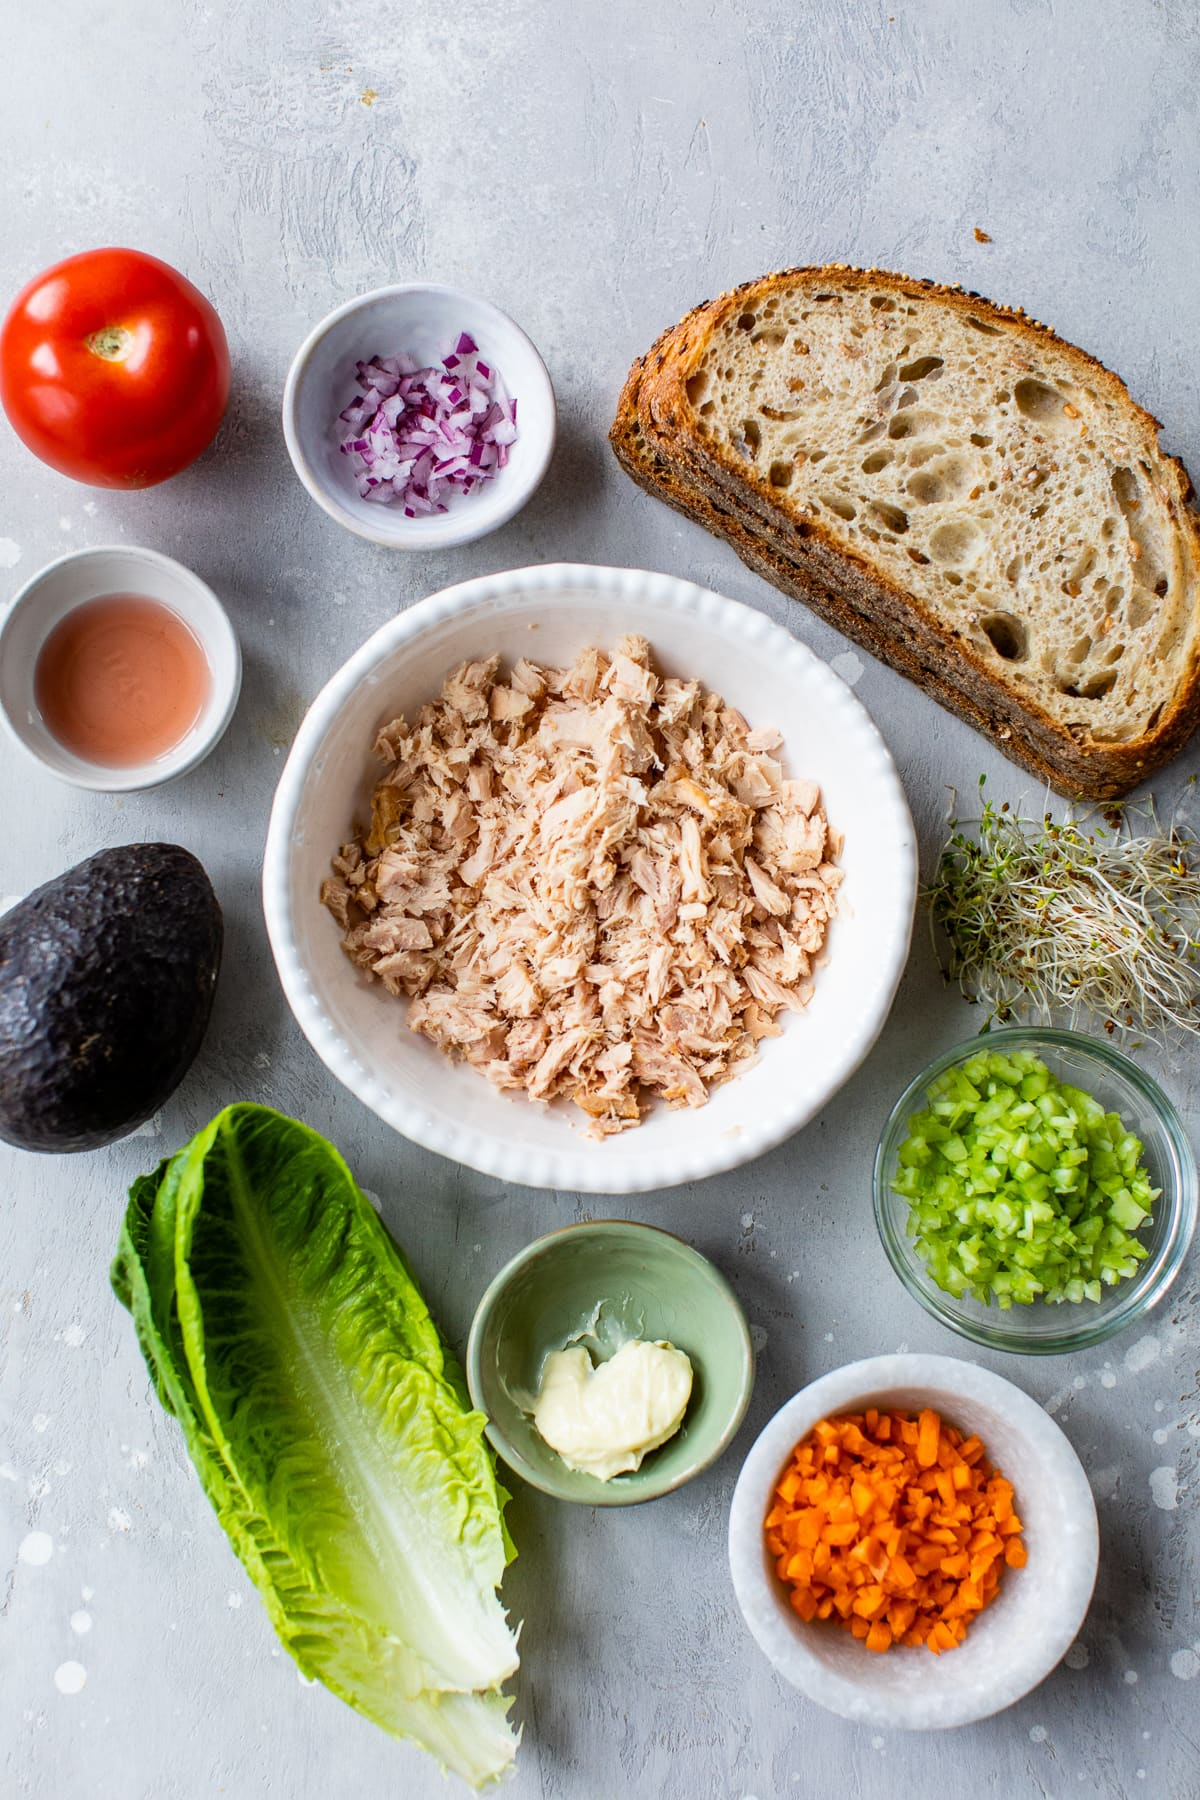Avacado: (0, 820, 237, 1164)
Lettuce: (125, 1089, 567, 1785)
Tomato: (0, 236, 246, 508)
Tuna: (307, 627, 868, 1172)
